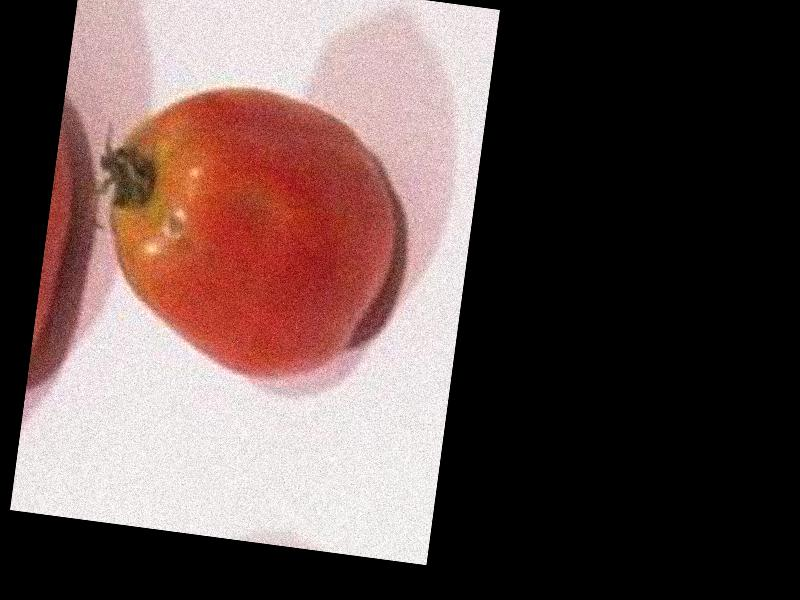Tomato: (87, 73, 405, 391)
